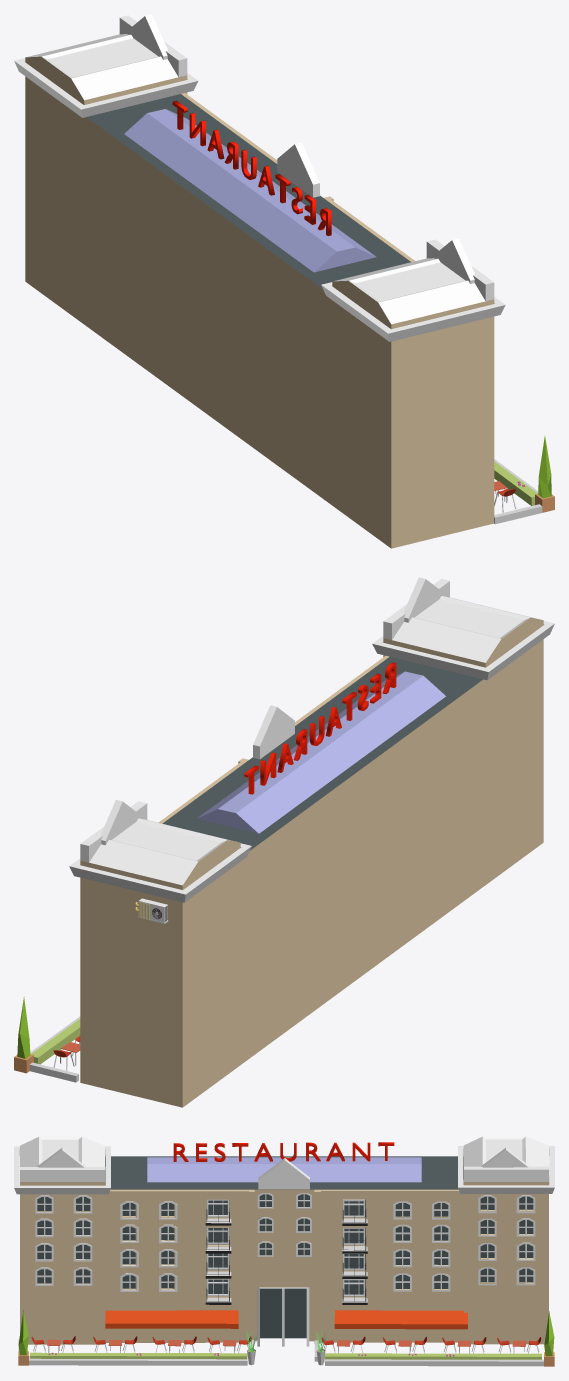
The model's file is Restaurant_tran.glb.
3 views of the same model, one above another, from view 1: azimuth 30°, elevation 25°; view 2: azimuth 150°, elevation 25°; view 3: azimuth 270°, elevation 25° (orthographic). The views are drawn at different scales.
Visible parts, largest first — view 1: restoranr, Text.035, Cube.3763, Cube.3788; view 2: restoranr, Text.035, Cube.3901, Cube.3789, Cube.3887; view 3: restoranr, Cube.3888, Cube.3889, Cube.3887, Text.035, Cube.3874, Cube.3789, Cube.3788, Cube.13748, Cube.3763, Cube.3901.
Boxes of the visible parts, x1,y1,x2,y2 form: restoranr: (14, 14, 505, 548); Text.035: (172, 100, 331, 235); Cube.3763: (535, 436, 554, 512); Cube.3788: (494, 461, 537, 505); restoranr: (69, 577, 554, 1107); Text.035: (244, 662, 396, 794); Cube.3901: (14, 996, 33, 1073); Cube.3789: (31, 1019, 80, 1064); Cube.3887: (29, 1016, 80, 1082); restoranr: (14, 1136, 554, 1344); Cube.3888: (334, 1310, 467, 1329); Cube.3889: (105, 1310, 238, 1328); Cube.3887: (314, 1340, 543, 1366); Text.035: (173, 1142, 394, 1161); Cube.3874: (18, 1339, 253, 1365); Cube.3789: (324, 1353, 541, 1362); Cube.3788: (29, 1352, 247, 1359); Cube.13748: (257, 1287, 309, 1346); Cube.3763: (18, 1310, 28, 1365); Cube.3901: (544, 1311, 554, 1366).
Bounding box in the file's own units: 0.2578 × 0.3819 × 0.9426.
